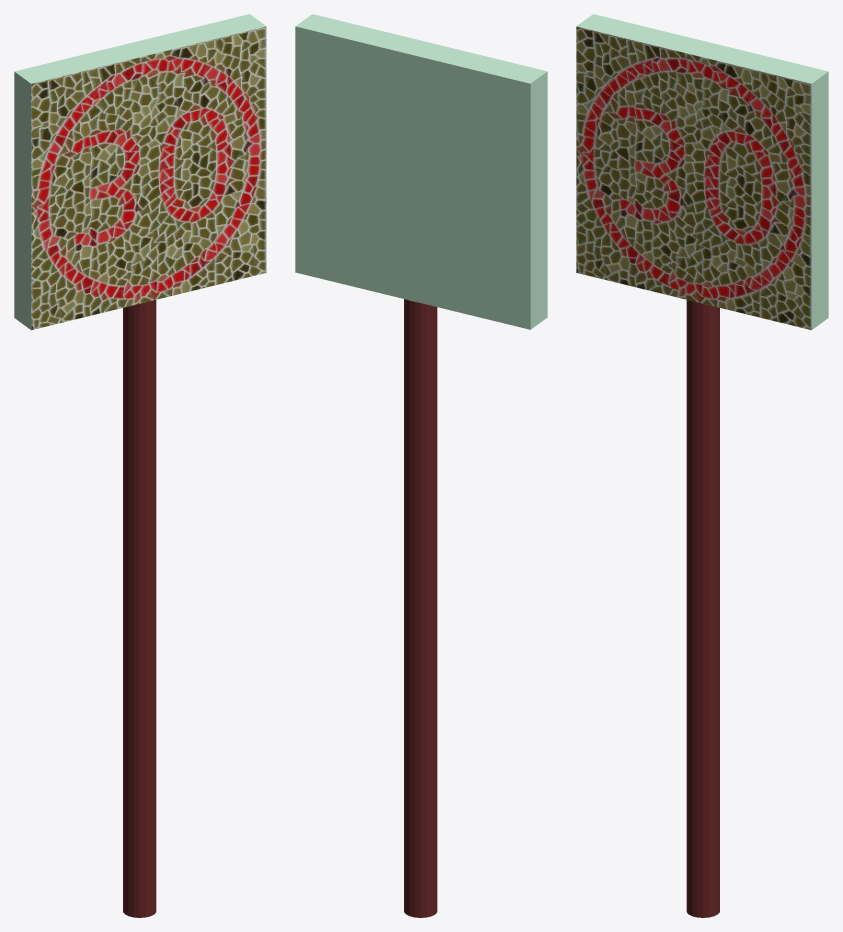
The model's file is ogr.dae.
3 renders of one model, left to right at view 1: azimuth 30°, elevation 25°; view 2: azimuth 150°, elevation 25°; view 3: azimuth 330°, elevation 25°, orthographic.
Parts seen in each view (by area): view 1: BSD_Material_p_ogr_14, CSD_Material_p_ogr_37, BSD_Material_p_ogr_15; view 2: BSD_Material_p_ogr_15, CSD_Material_p_ogr_37; view 3: BSD_Material_p_ogr_14, CSD_Material_p_ogr_37, BSD_Material_p_ogr_15.
Part boxes in pixels (x1,y1,x2,y2): BSD_Material_p_ogr_14: (31,26,266,329); CSD_Material_p_ogr_37: (123,300,156,917); BSD_Material_p_ogr_15: (14,14,266,329); BSD_Material_p_ogr_15: (295,14,547,329); CSD_Material_p_ogr_37: (404,299,437,917); BSD_Material_p_ogr_14: (576,26,811,329); CSD_Material_p_ogr_37: (686,300,719,917); BSD_Material_p_ogr_15: (576,14,828,329).
Bounding box in the file's own units: 1.57 × 0.2043 × 5.51.
